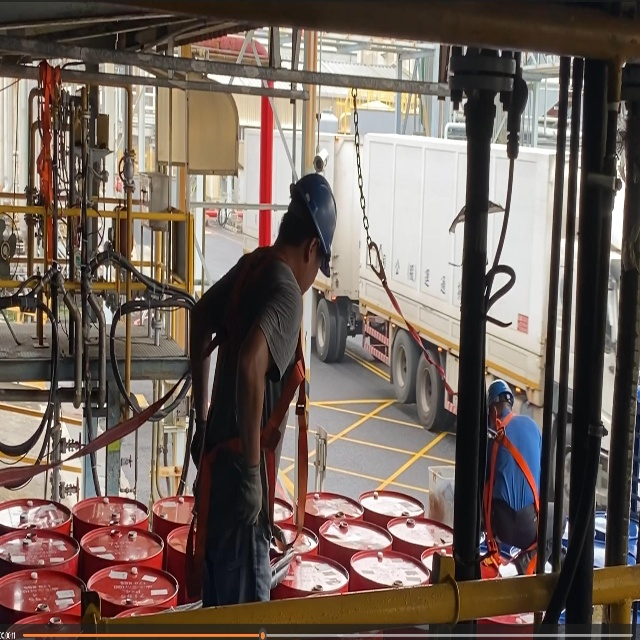Arnes_seguridad: (185, 251, 308, 601), (482, 412, 541, 578)
